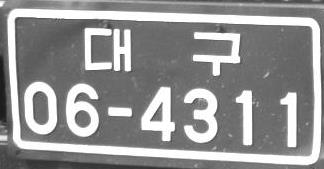0: (23, 79, 57, 134)
1: (229, 88, 267, 146), (275, 90, 306, 148)
3: (182, 86, 218, 144)
4: (140, 85, 175, 142)
6: (64, 81, 99, 138)
대구_D: (83, 25, 241, 77)
